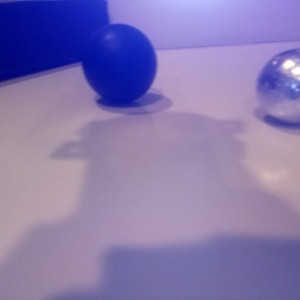alive_ball: (257, 49, 300, 125)
dead_ball: (81, 24, 159, 104)
